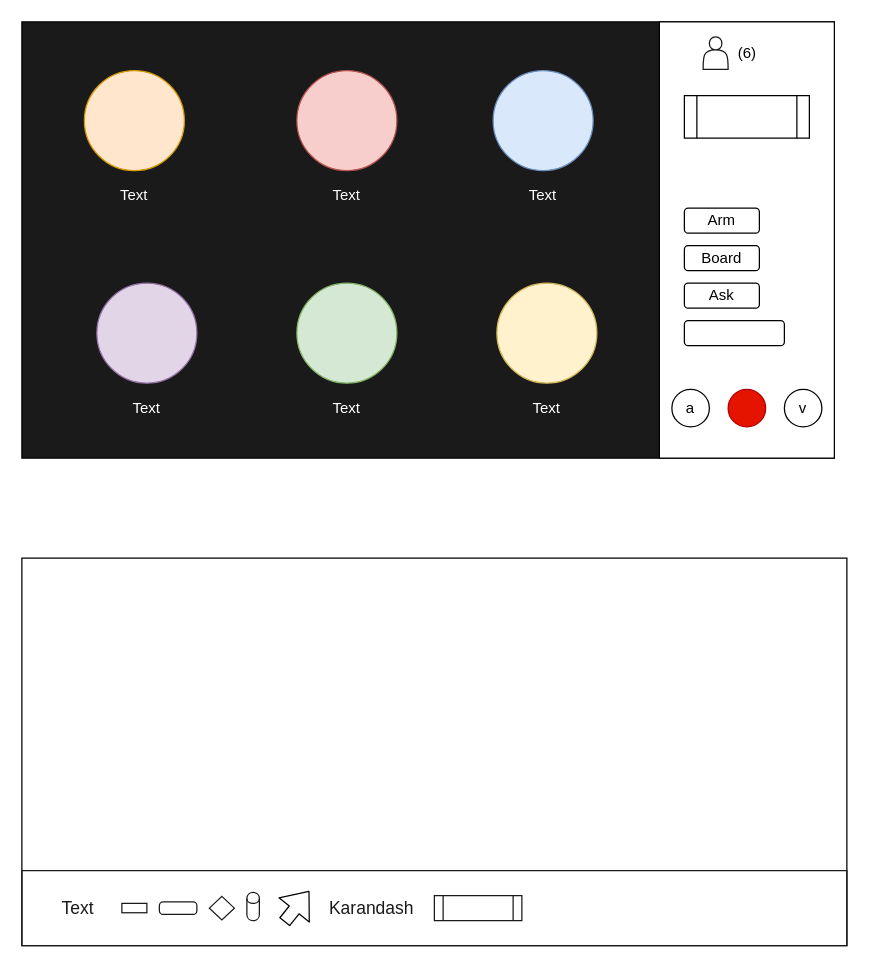
The diagram is 869 pixels wide and 968 high, and some of its shapes have lost their labels. Here are the shapes that lost their labels. From the top down, the centre of each, then its label:
At (x=746, y=116): "CHAT".
At (x=733, y=332): "ScreenShare".
At (x=477, y=907): "Add file".
